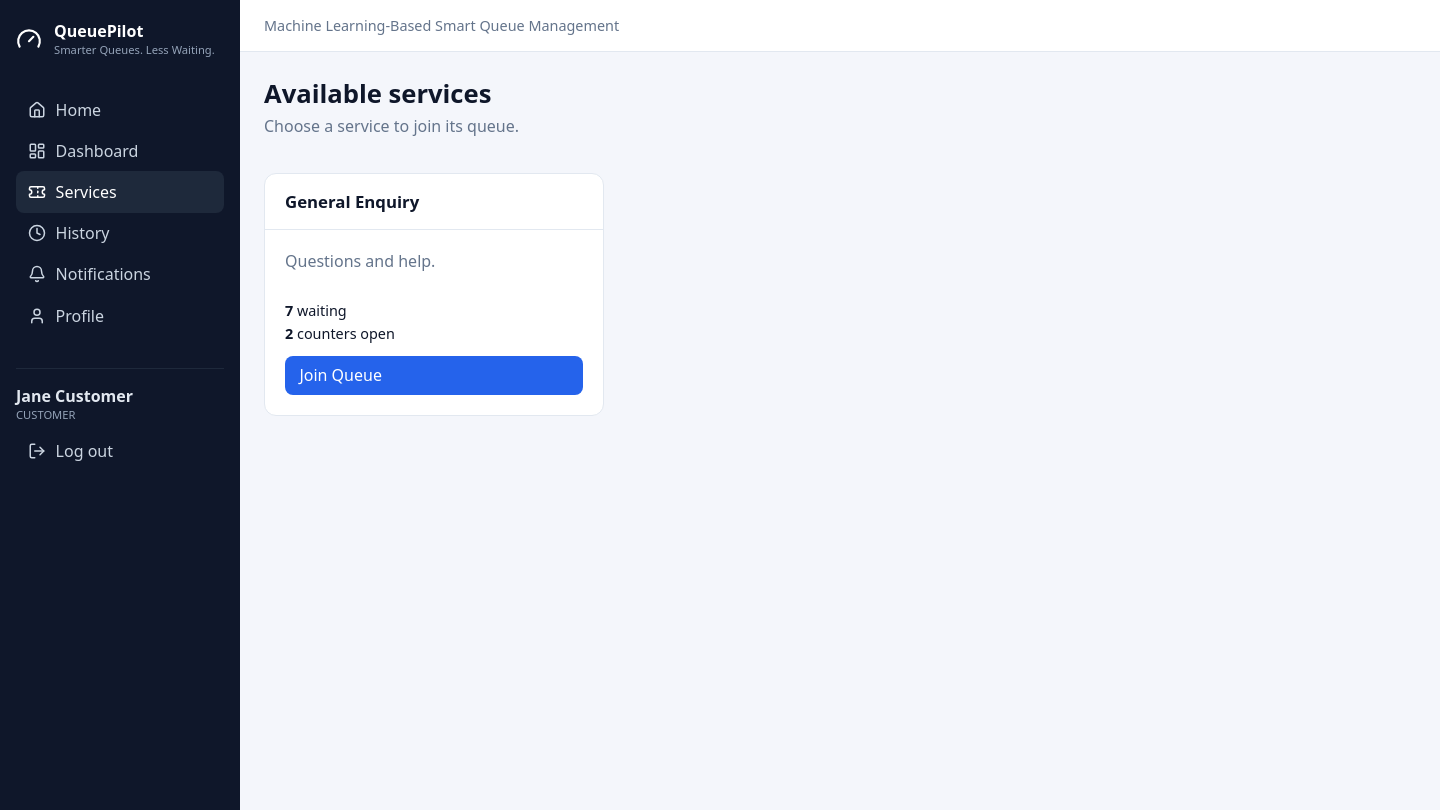
a rejected join shows the server message and stays on the page
What coordinates should you click on to do the following:
click the button with aria-label "Join queue for General Enquiry"
I would click on:
 (341, 375)
Its box is [285,356,583,395].
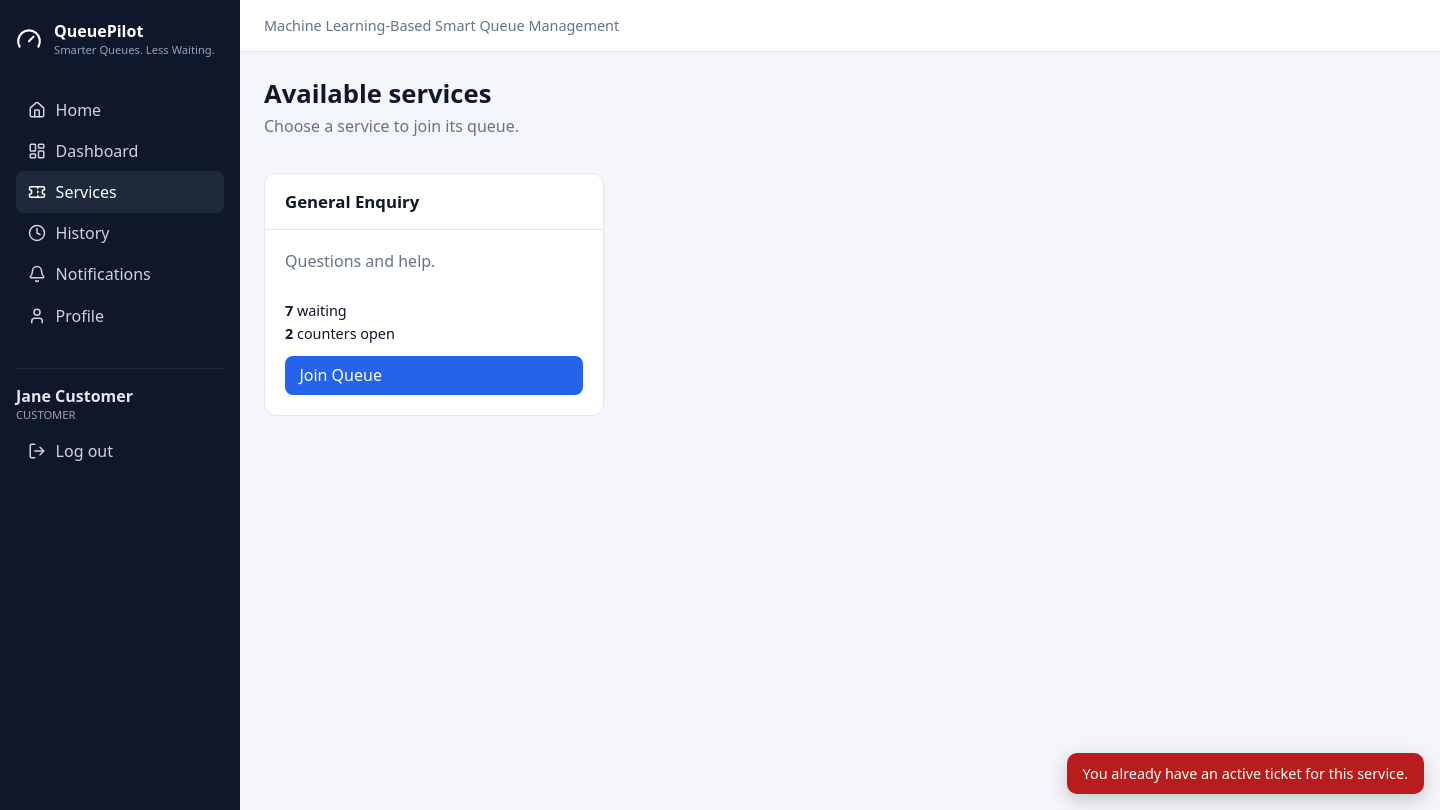
Expected: the heading "Available services" is shown, [264,76,491,111]
Now the text "You already have an active ticket for this service." is shown, box [1067,753,1424,794]
